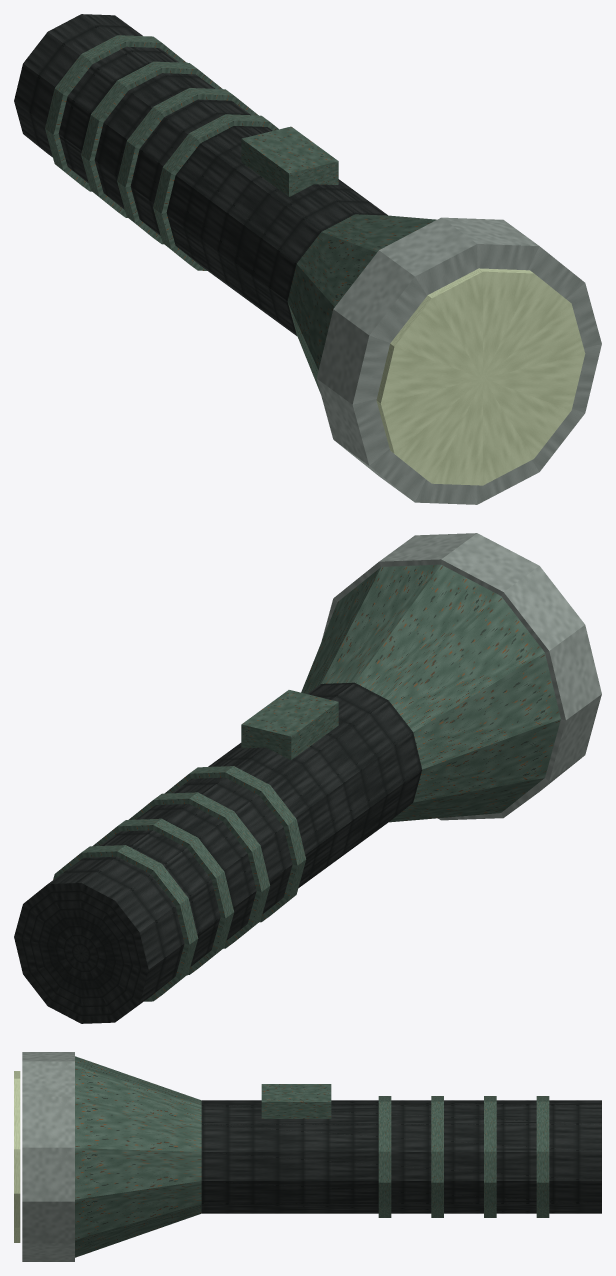
The model's file is Flashlight.glb.
The picture shows the model from 3 angles, top to bottom: view 1: azimuth 30°, elevation 25°; view 2: azimuth 150°, elevation 25°; view 3: azimuth 270°, elevation 25°; orthographic projection. The views are drawn at different scales.
Parts seen in each view (by area): view 1: Flashlight; view 2: Flashlight; view 3: Flashlight.
Boxes of the visible parts, x1,y1,x2,y2 form: Flashlight: [14, 14, 601, 504]; Flashlight: [14, 533, 601, 1023]; Flashlight: [14, 1052, 601, 1261].
Bounding box in the file's own units: 0.1 × 0.1 × 0.279.
Materials: 4 (4 with a texture image).
